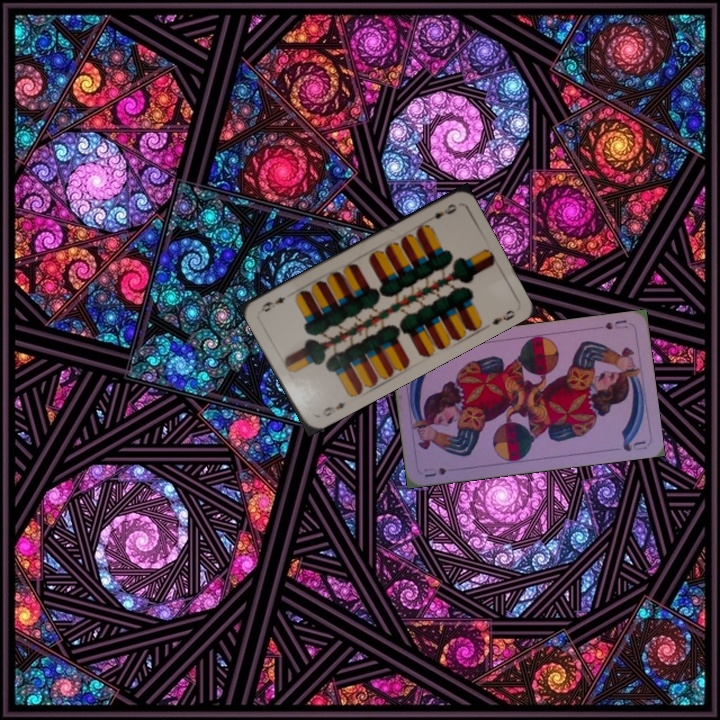E9: (430, 200, 459, 222), (318, 398, 348, 419)
SU: (420, 463, 449, 480), (601, 316, 630, 332)
